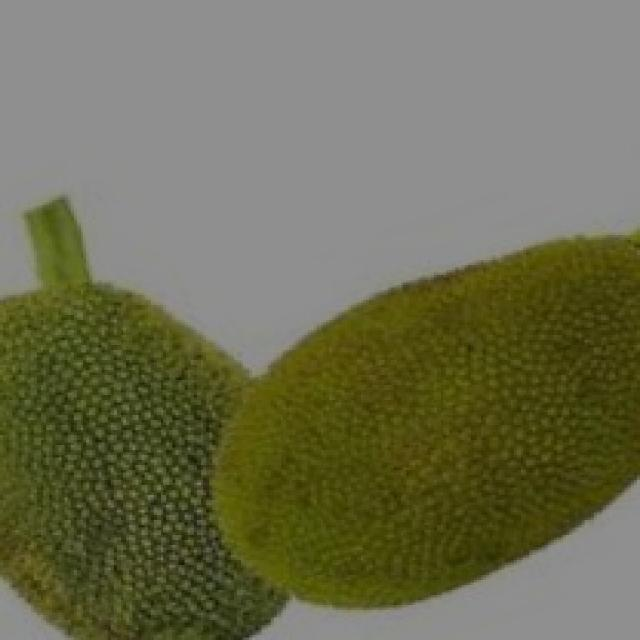Fruit: (221, 230, 637, 638), (0, 265, 289, 640)
